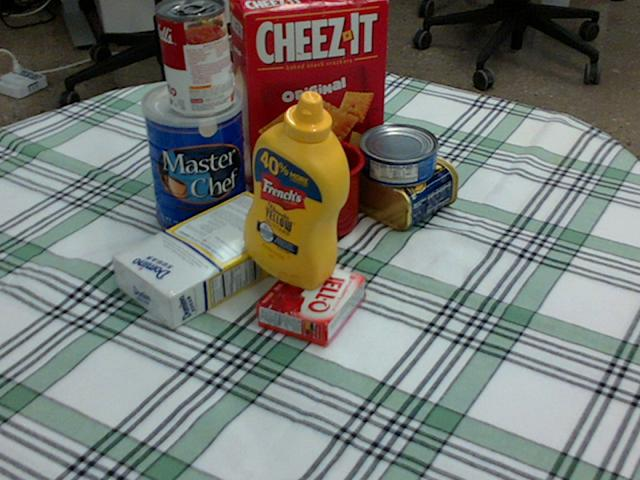cracker_box: (230, 0, 388, 192)
gelatin_box: (257, 258, 365, 345)
master_chef_can: (140, 79, 247, 238)
mug: (277, 136, 365, 238)
mustard_bottle: (243, 90, 349, 289)
potted_meat_can: (341, 136, 455, 227)
sugar_box: (110, 189, 304, 328)
tomato_soup_can: (156, 0, 233, 115)
tuna_fish_can: (358, 124, 437, 186)
